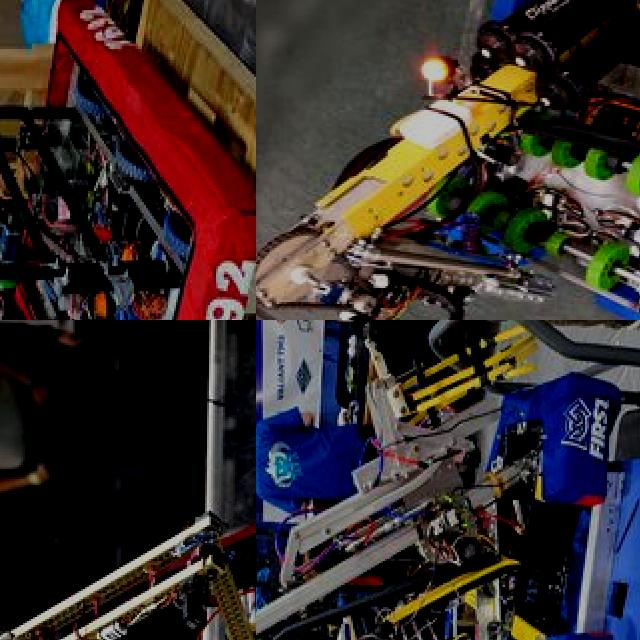FRC-Robots: (282, 0, 640, 320), (256, 357, 640, 640), (0, 0, 256, 320), (0, 374, 256, 640)
